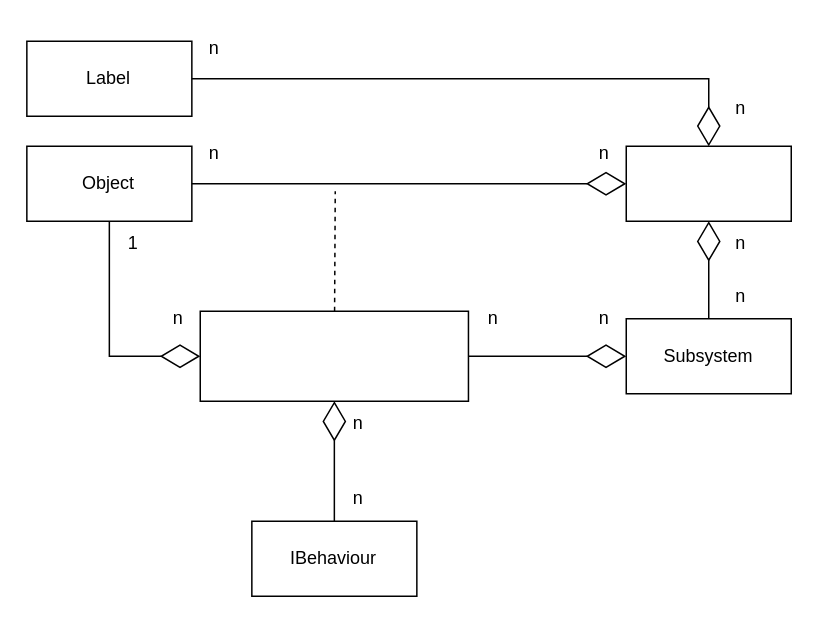
This 818x623 diagram has some shape labels left out. Each missing label, with the centre of its shape:
"ObjectAndBehavioursListPair" belongs at pixel 333 355.
"Scene" belongs at pixel 708 183.
